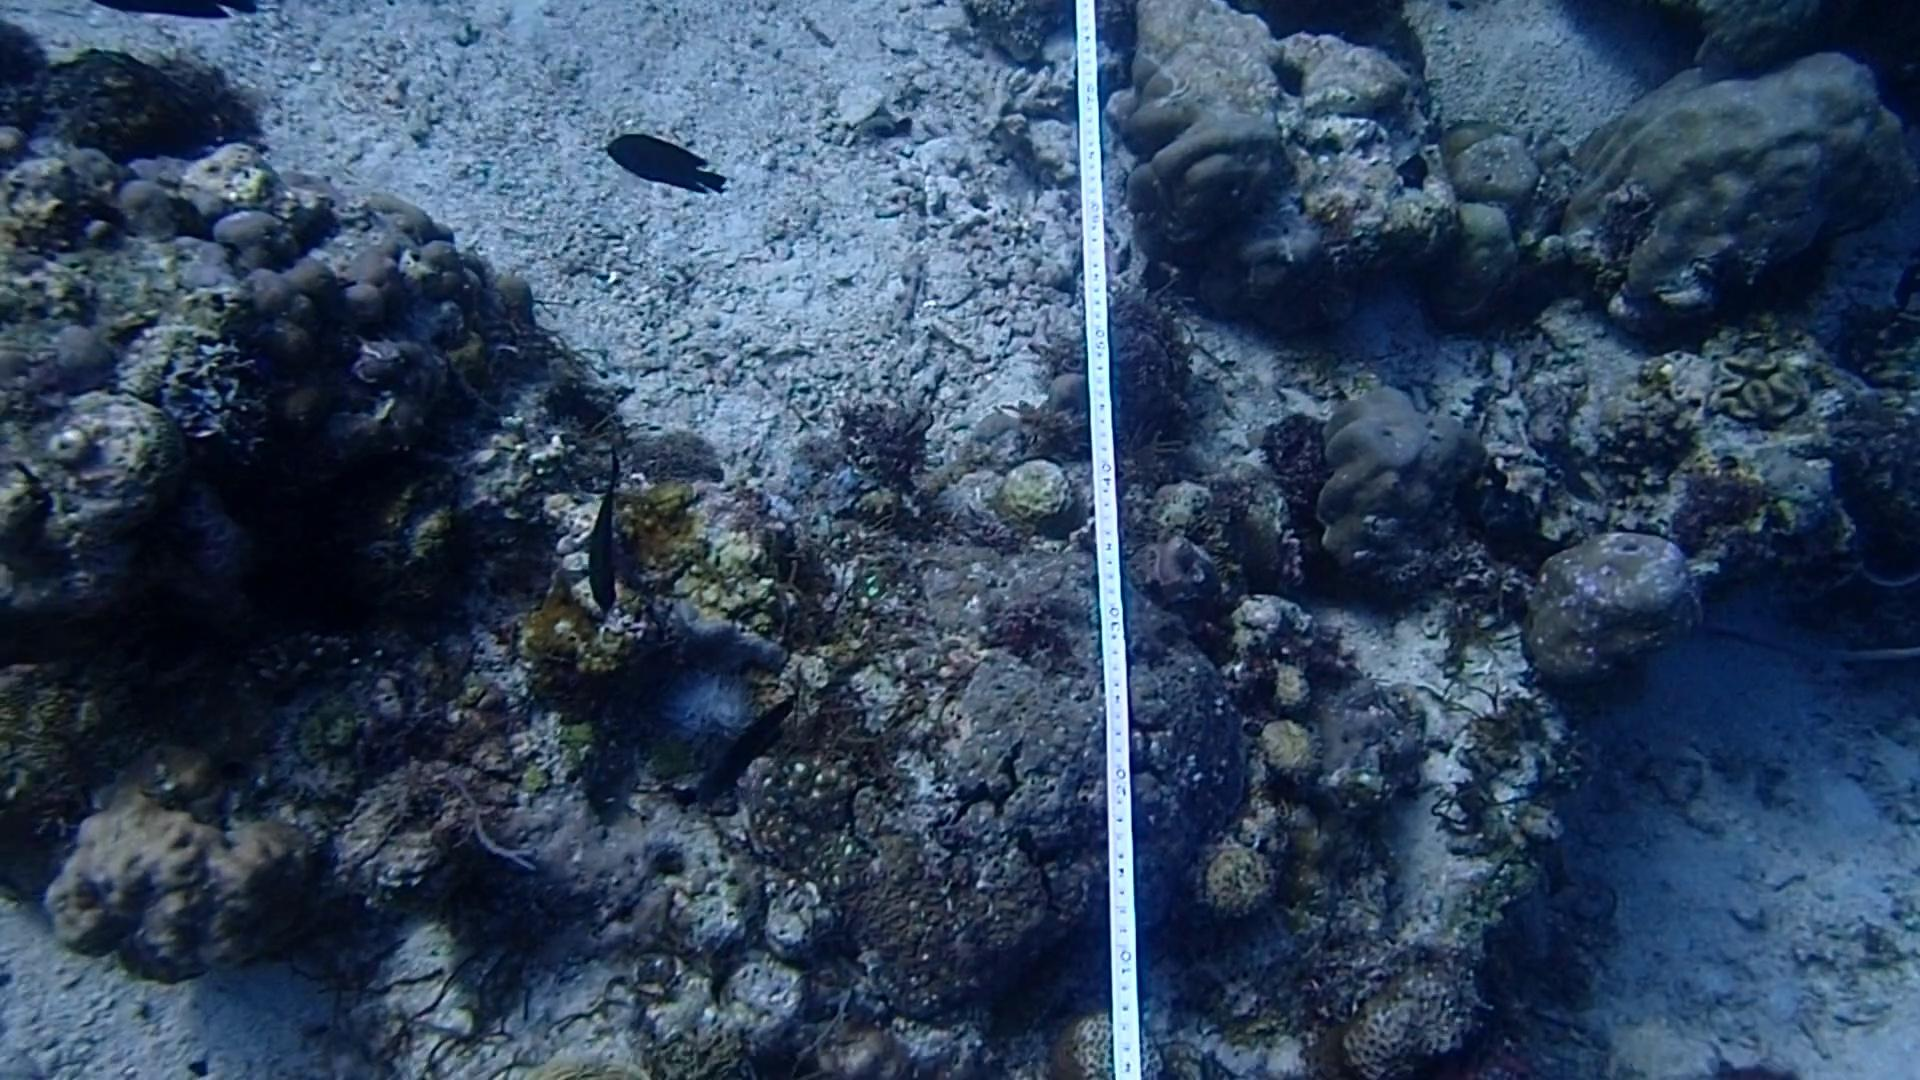Dark Fish: (587, 104, 731, 208), (680, 683, 806, 802), (570, 426, 634, 616)
